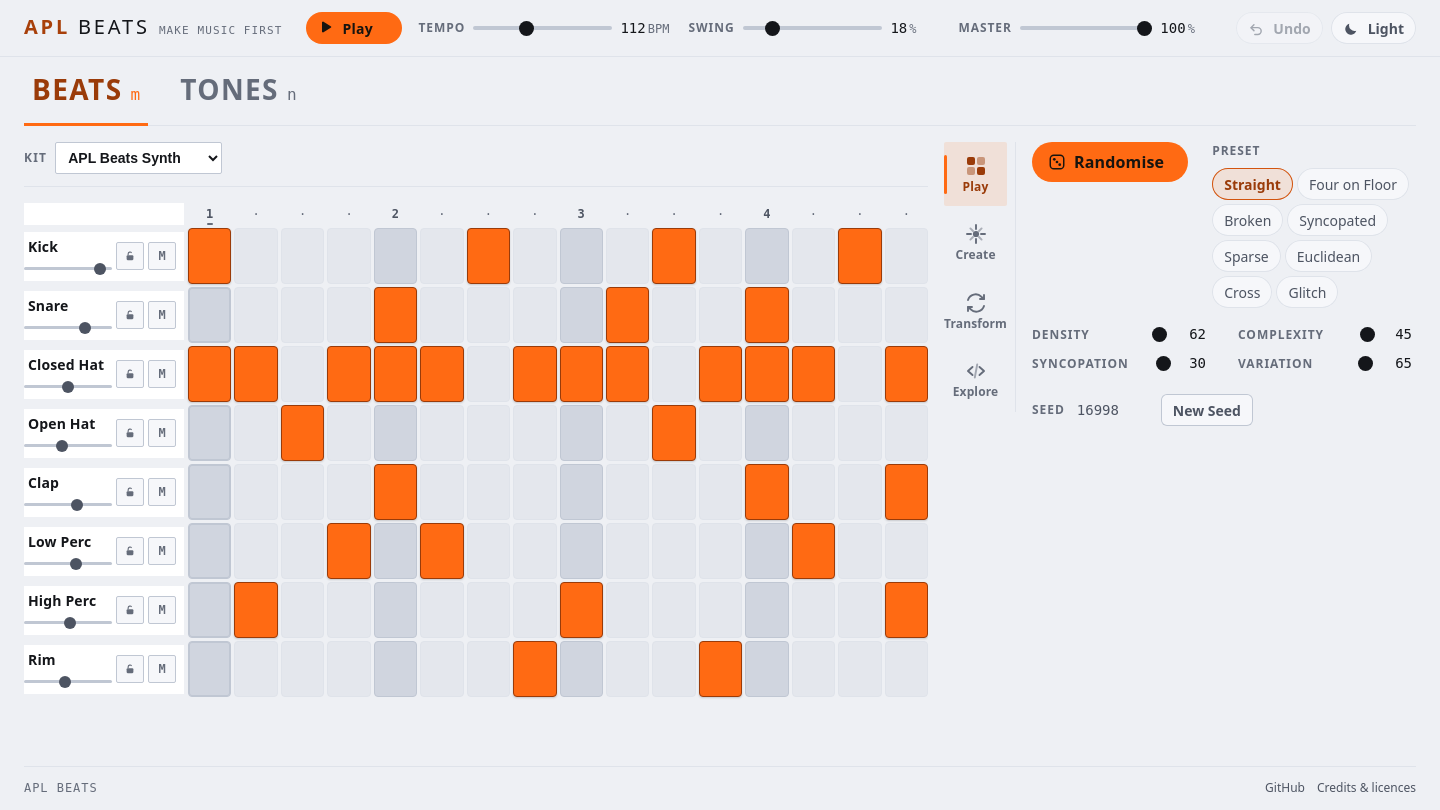
it: the control › shows the level, and says it
Step 1. Set the slider named "Master volume" to "37" → (1071, 28), box [1020,18,1152,38]
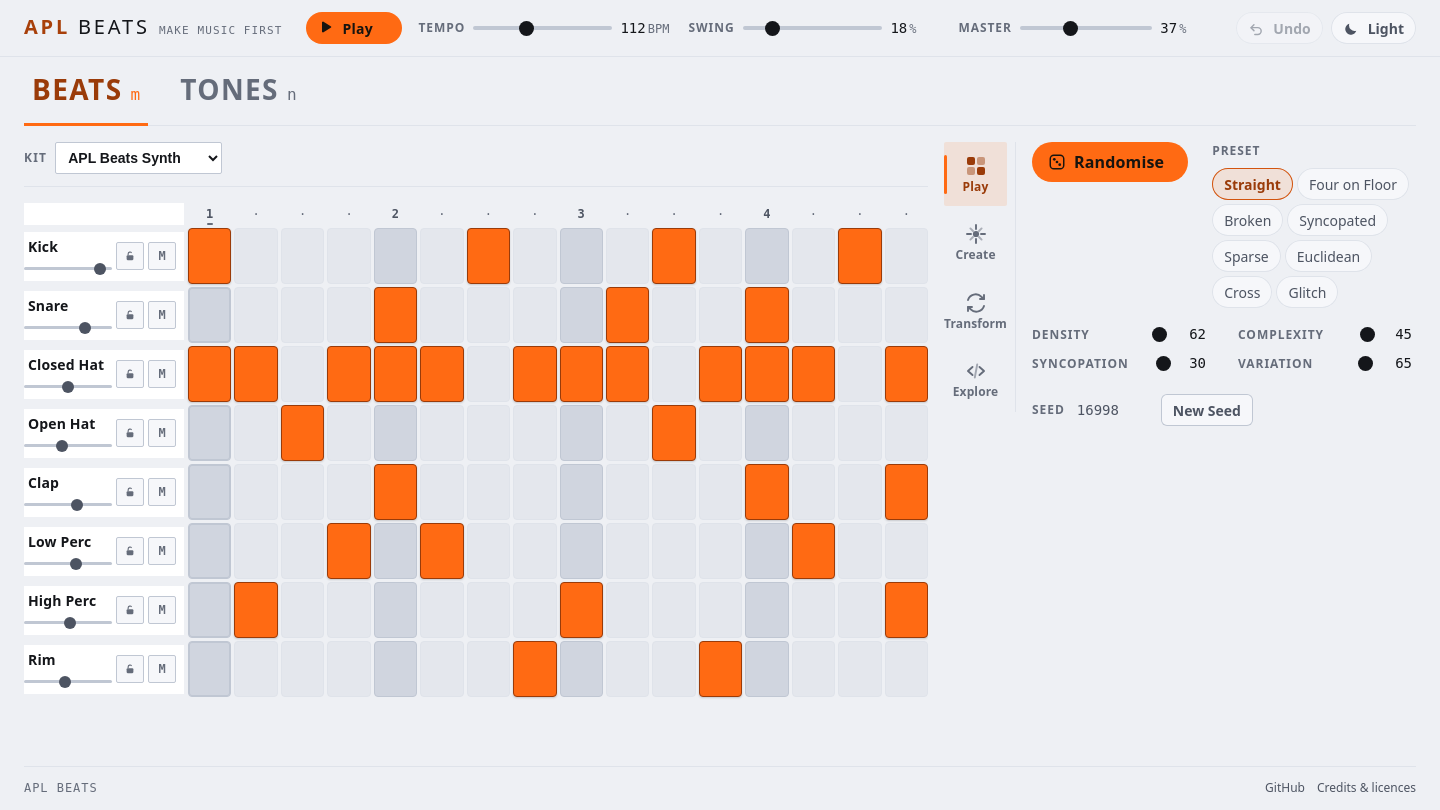
Now the text "37" is shown, box [1160,20,1177,36]
